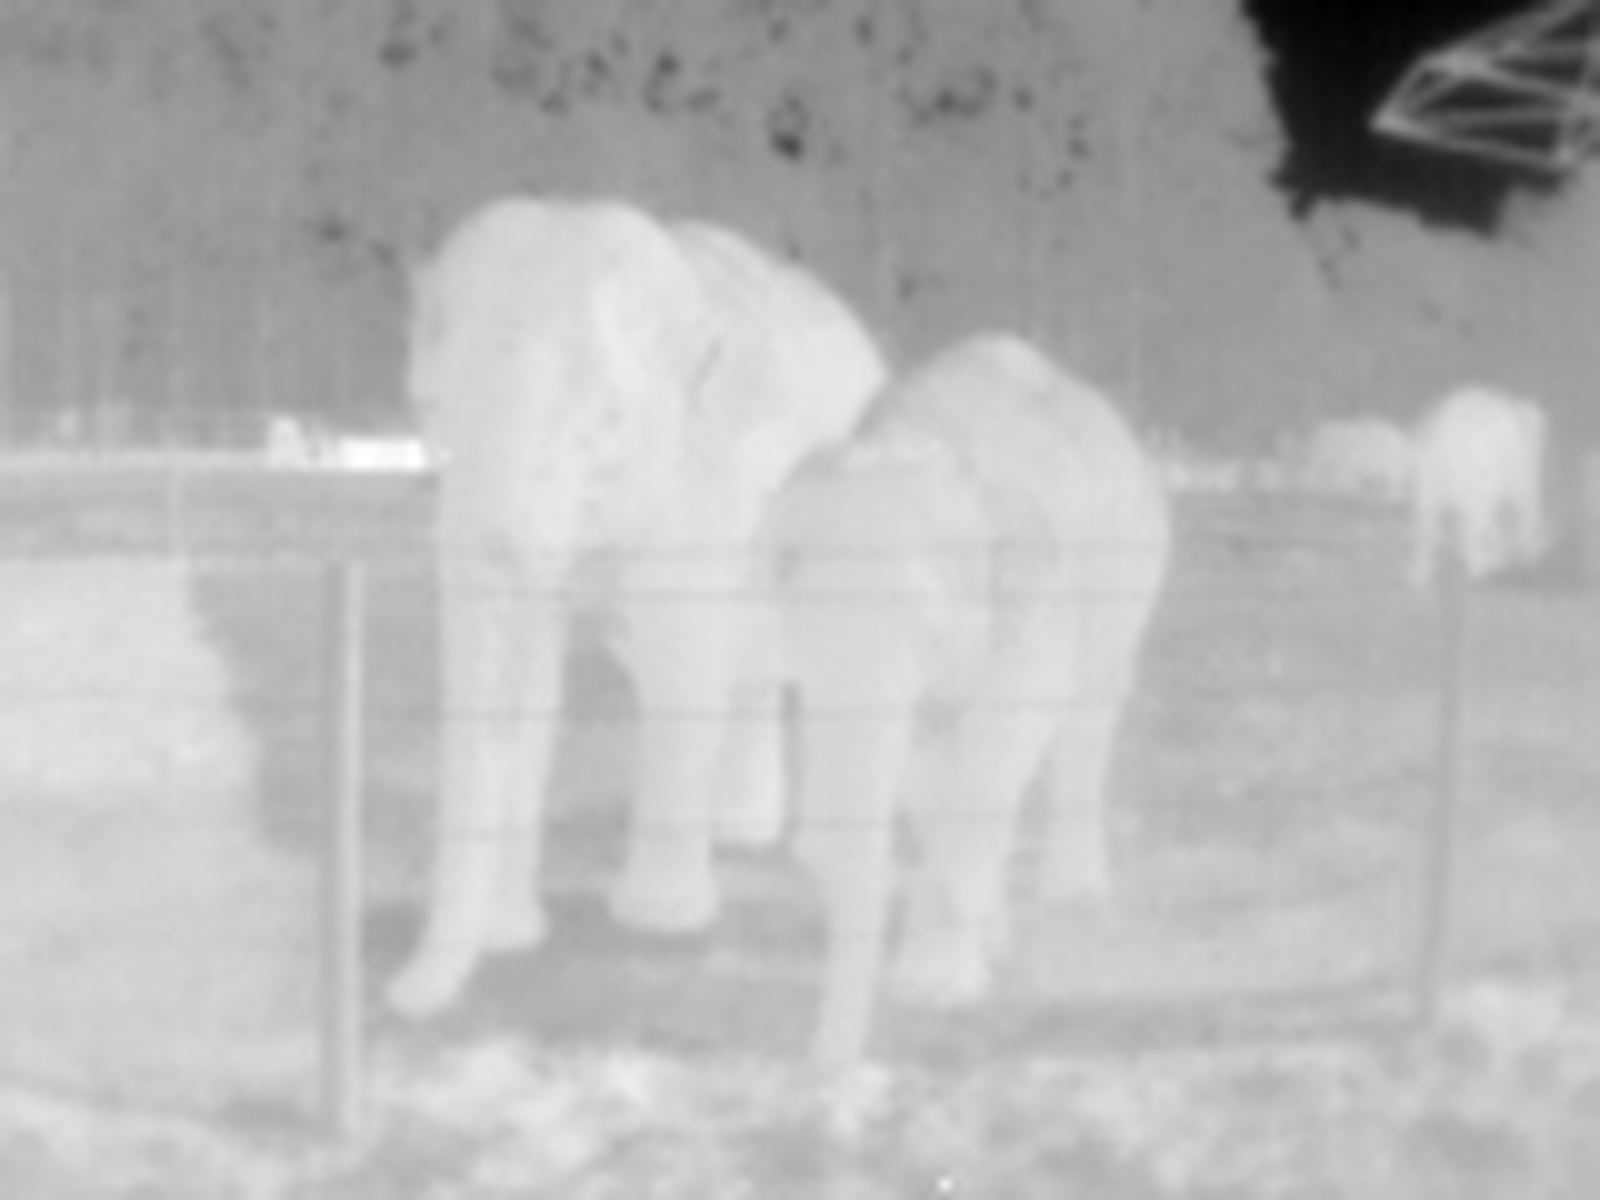elephant: (396, 180, 1130, 1107), (1288, 366, 1600, 620)
